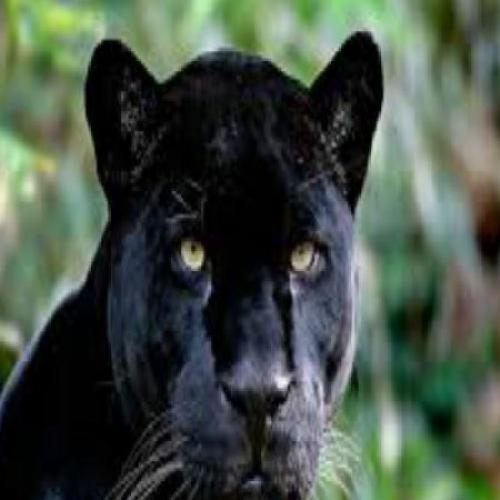panther-endangered: (0, 25, 385, 500)
